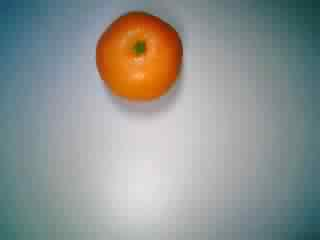orange: (91, 7, 186, 103)
